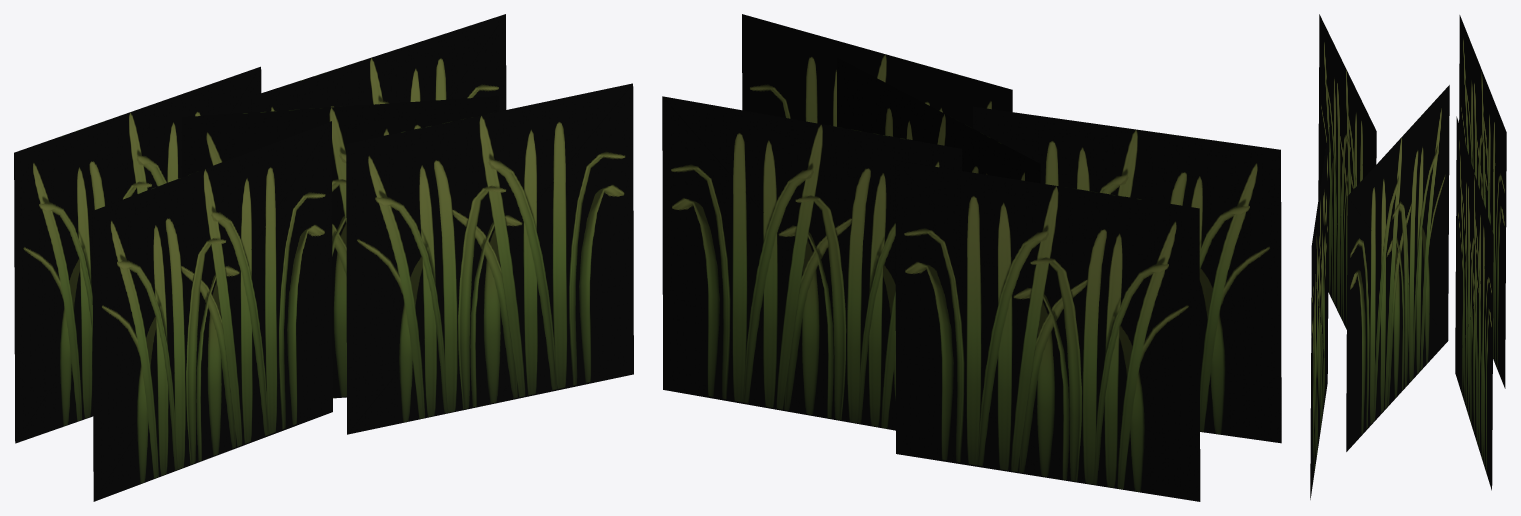
The model's file is Grass.glb.
The picture shows the model from 3 angles, left to right: view 1: azimuth 30°, elevation 25°; view 2: azimuth 150°, elevation 25°; view 3: azimuth 270°, elevation 25°; orthographic projection. The views are drawn at different scales.
Visible parts, largest first — view 1: Plane.002; view 2: Plane.002; view 3: Plane.002.
Part boxes in pixels (left/top/right/bottom): Plane.002: left=14, top=14, right=633, bottom=501; Plane.002: left=662, top=14, right=1281, bottom=501; Plane.002: left=1310, top=14, right=1506, bottom=499.
Size of the model in its own units: 3.87 by 2 by 1.39.
1 material, 1 textured.
